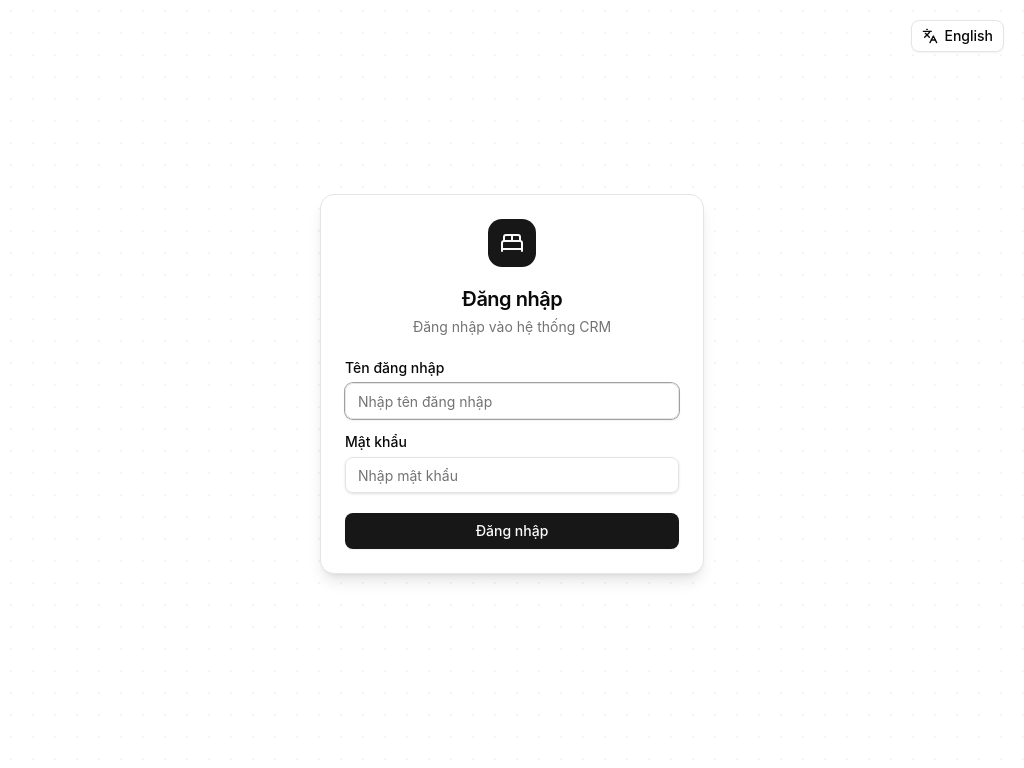
Test: App › switches visible copy to English when the language is toggled
Expected: the text "Đăng nhập vào hệ thống CRM" is shown, x1=413 y1=317 x2=611 y2=337
Click the button "English". click: [958, 36]
box: x1=911 y1=20 x2=1004 y2=52
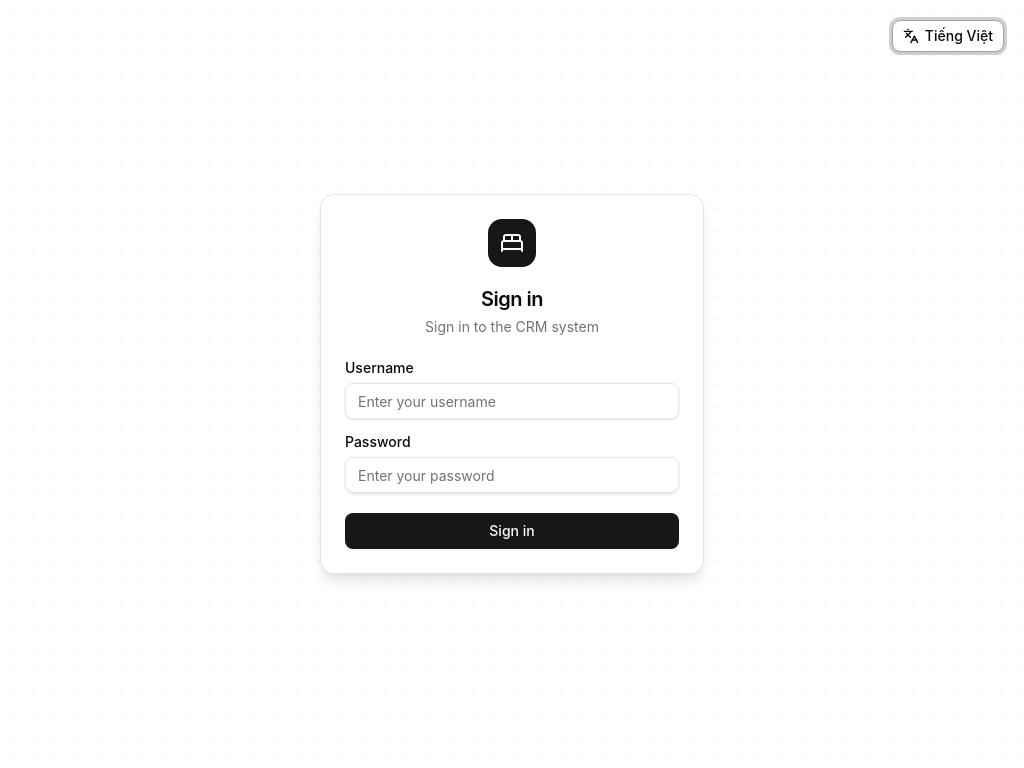
Now the text "Sign in to the CRM system" is shown, box x1=425 y1=317 x2=599 y2=337
